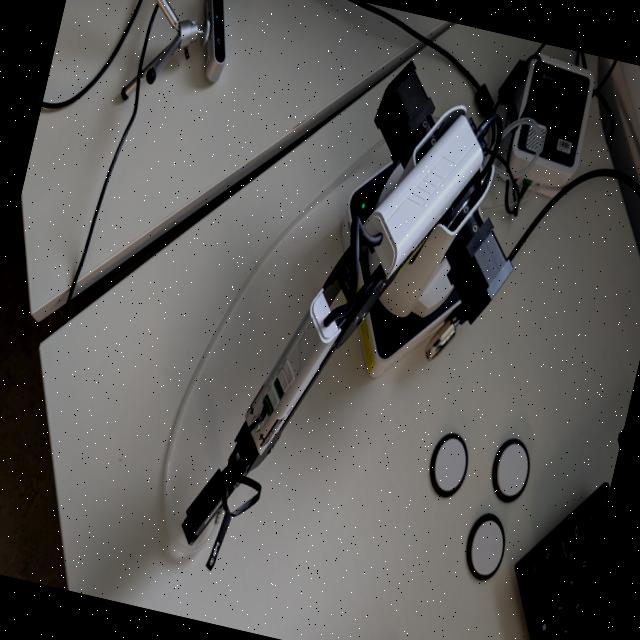Robot-end-effector-HF8z: (173, 458, 239, 559)
